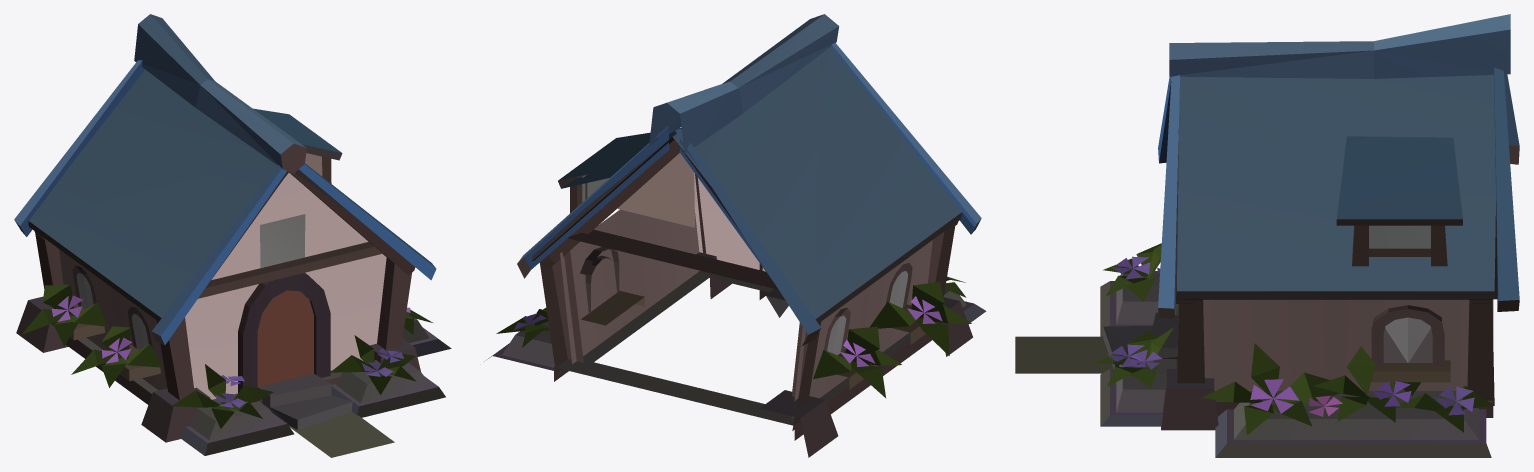
The model's file is building32.fbx.
3 views of the same model, side by side, from view 1: azimuth 30°, elevation 25°; view 2: azimuth 150°, elevation 25°; view 3: azimuth 270°, elevation 25° (orthographic). The views are drawn at different scales.
Visible parts, largest first — view 1: building32; view 2: building32; view 3: building32.
Part boxes in pixels (x1,y1,x2,y2): building32: [14, 14, 451, 457]; building32: [484, 14, 986, 457]; building32: [1015, 14, 1519, 457].
Bounding box in the file's own units: 2.07 × 1.65 × 2.2.
Materials: 1 (1 with a texture image).
